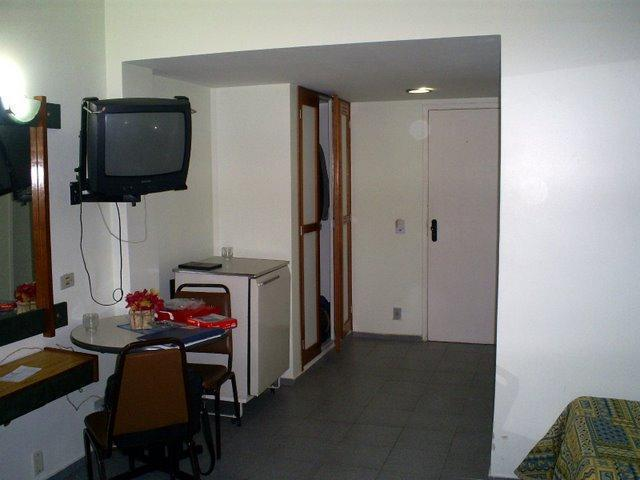Armario: (293, 79, 350, 362)
Cama: (518, 389, 636, 476)
Electrodomestico: (181, 257, 293, 401)
Puerta: (425, 108, 494, 347)
